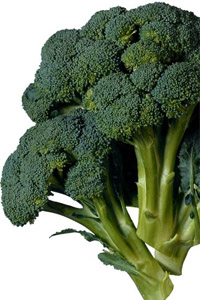broccoli: (1, 2, 199, 297)
